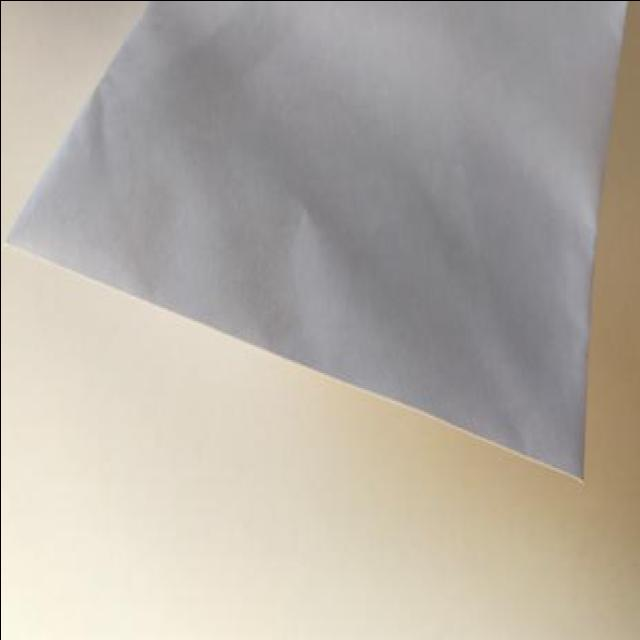kertas: (0, 0, 629, 482)
